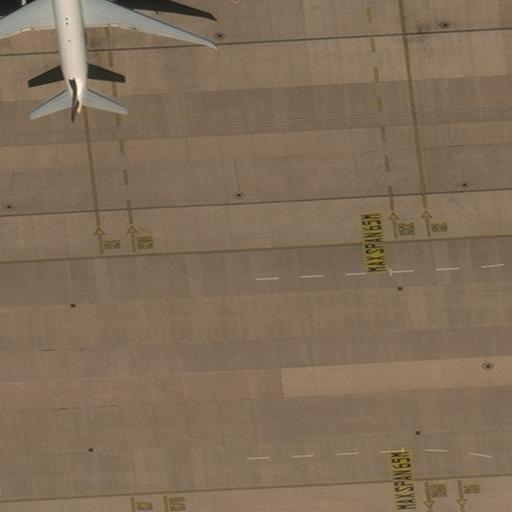Large Civil Transport: (0, 0, 211, 113)
